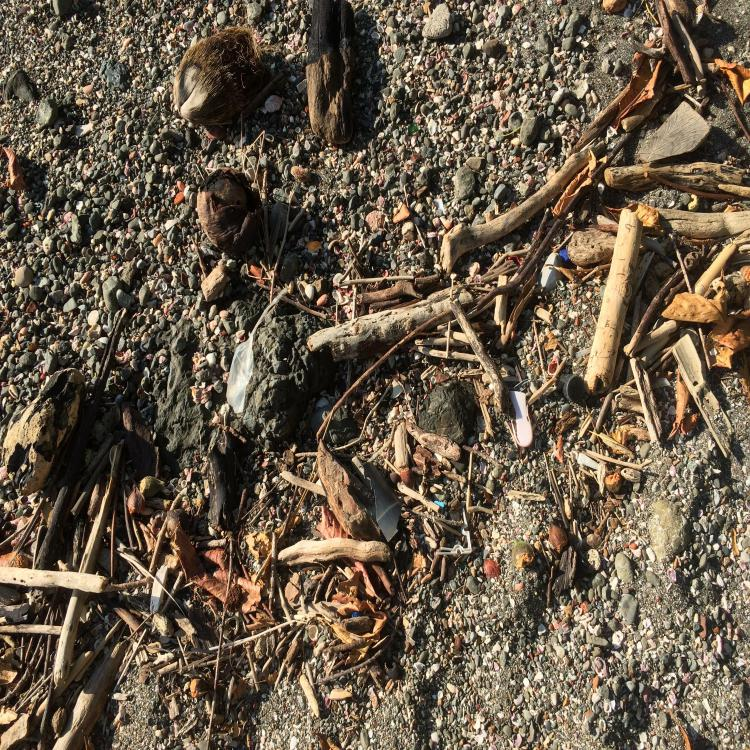Other plastic wrapper: (359, 461, 404, 542), (436, 508, 472, 555), (507, 391, 533, 448), (577, 452, 599, 470), (434, 500, 444, 509)
Plastic film: (226, 288, 288, 414)
Unlabeled litter: (558, 373, 584, 402)
